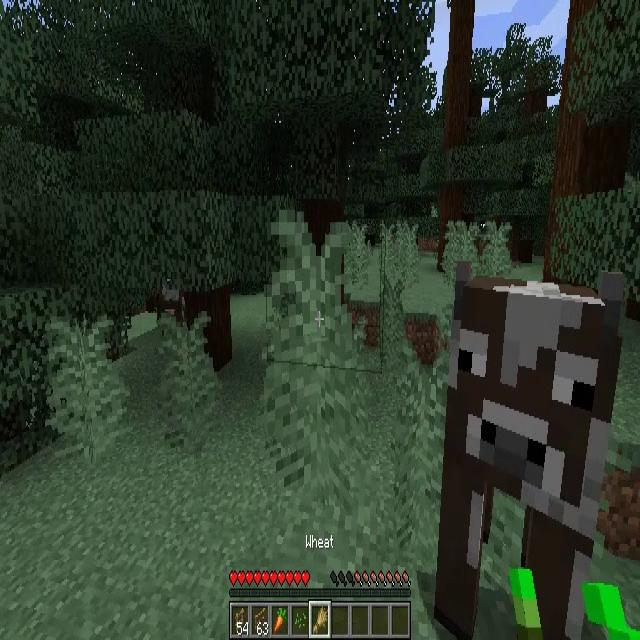cow: (450, 261, 622, 640)
